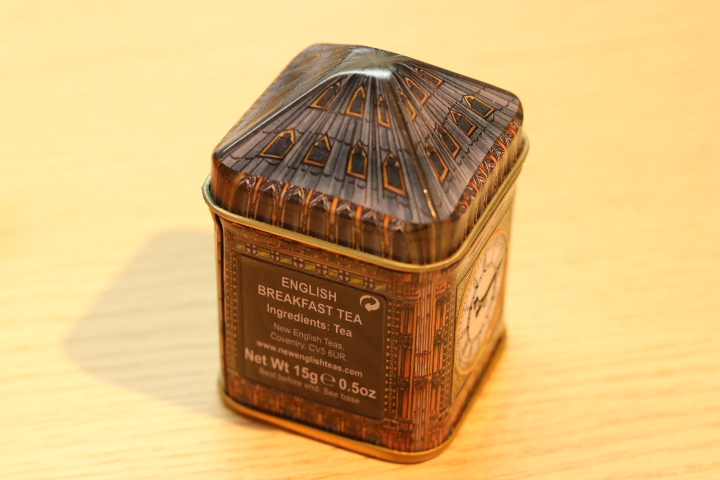Big Ben: (191, 35, 542, 475)
